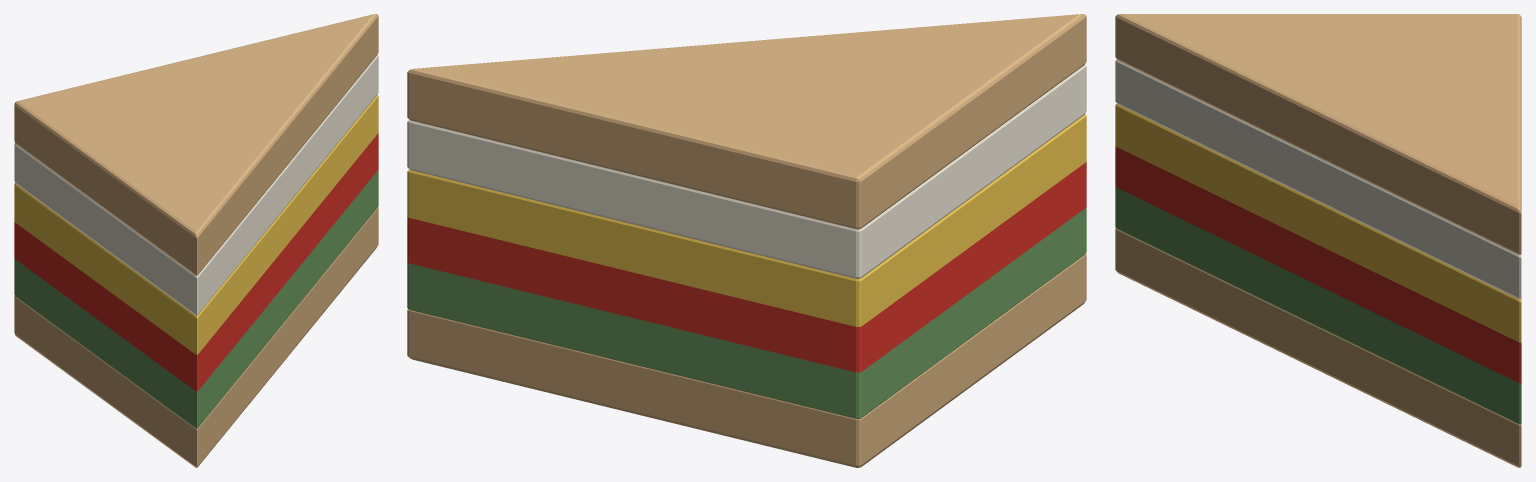
File: P041_giant_sandwich.glb
The picture shows the model from 3 angles, left to right: view 1: azimuth 30°, elevation 25°; view 2: azimuth 150°, elevation 25°; view 3: azimuth 270°, elevation 25°; orthographic projection. The views are drawn at different scales.
Visible parts, largest first — view 1: P041_sandwich_layer_006, P041_sandwich_layer_005, P041_sandwich_layer_004, P041_sandwich_layer_001, P041_sandwich_layer_002, P041_sandwich_layer_003; view 2: P041_sandwich_layer_006, P041_sandwich_layer_005, P041_sandwich_layer_001, P041_sandwich_layer_004, P041_sandwich_layer_002, P041_sandwich_layer_003; view 3: P041_sandwich_layer_006, P041_sandwich_layer_005, P041_sandwich_layer_001, P041_sandwich_layer_004, P041_sandwich_layer_002, P041_sandwich_layer_003.
Boxes of the visible parts, x1,y1,x2,y2 form: P041_sandwich_layer_006: (14,14,378,275); P041_sandwich_layer_005: (14,54,378,315); P041_sandwich_layer_004: (14,94,378,354); P041_sandwich_layer_001: (14,207,378,467); P041_sandwich_layer_002: (14,170,378,428); P041_sandwich_layer_003: (14,133,378,391); P041_sandwich_layer_006: (407,14,1086,229); P041_sandwich_layer_005: (407,64,1086,278); P041_sandwich_layer_001: (407,254,1086,467); P041_sandwich_layer_004: (407,114,1086,326); P041_sandwich_layer_002: (407,207,1086,418); P041_sandwich_layer_003: (407,161,1086,372); P041_sandwich_layer_006: (1115,14,1521,254); P041_sandwich_layer_005: (1115,59,1521,299); P041_sandwich_layer_001: (1115,228,1521,467); P041_sandwich_layer_004: (1115,104,1521,342); P041_sandwich_layer_002: (1115,187,1521,424); P041_sandwich_layer_003: (1115,146,1521,383).
Bounding box in the file's own units: 0.229 × 0.141 × 0.1993.
